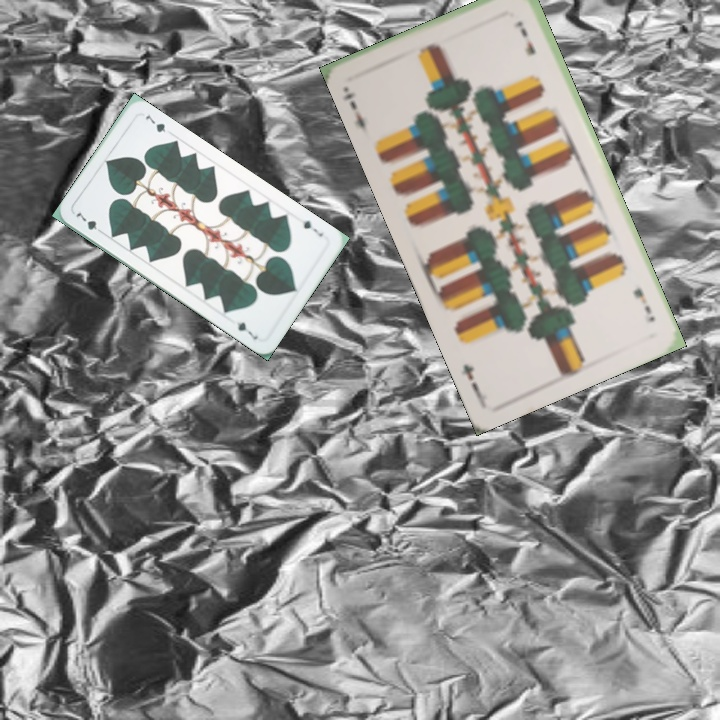E7: (339, 88, 372, 138), (629, 284, 658, 325)
G7: (71, 208, 107, 237), (295, 214, 326, 239)
